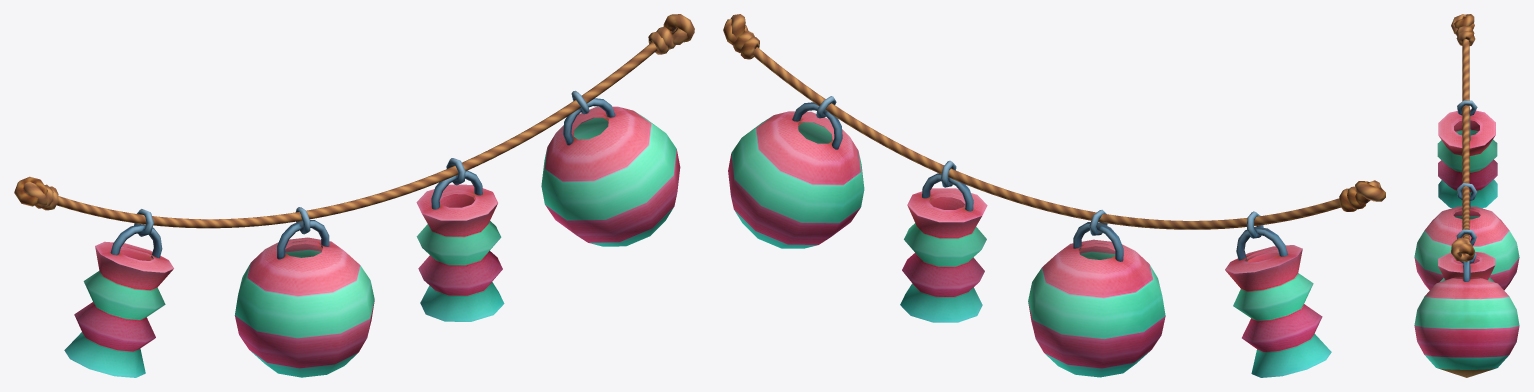
File: SE_Lampions_01a.fbx
The picture shows the model from 3 angles, left to right: view 1: azimuth 30°, elevation 25°; view 2: azimuth 150°, elevation 25°; view 3: azimuth 270°, elevation 25°; orthographic projection. The views are drawn at different scales.
Visible parts, largest first — view 1: SE_Lampions_01a; view 2: SE_Lampions_01a; view 3: SE_Lampions_01a.
Part boxes in pixels (x1,y1,x2,y2): SE_Lampions_01a: [14, 14, 694, 377]; SE_Lampions_01a: [723, 14, 1385, 377]; SE_Lampions_01a: [1414, 14, 1519, 377].
Bounding box in the file's own units: 12.09 × 4.66 × 2.23.
